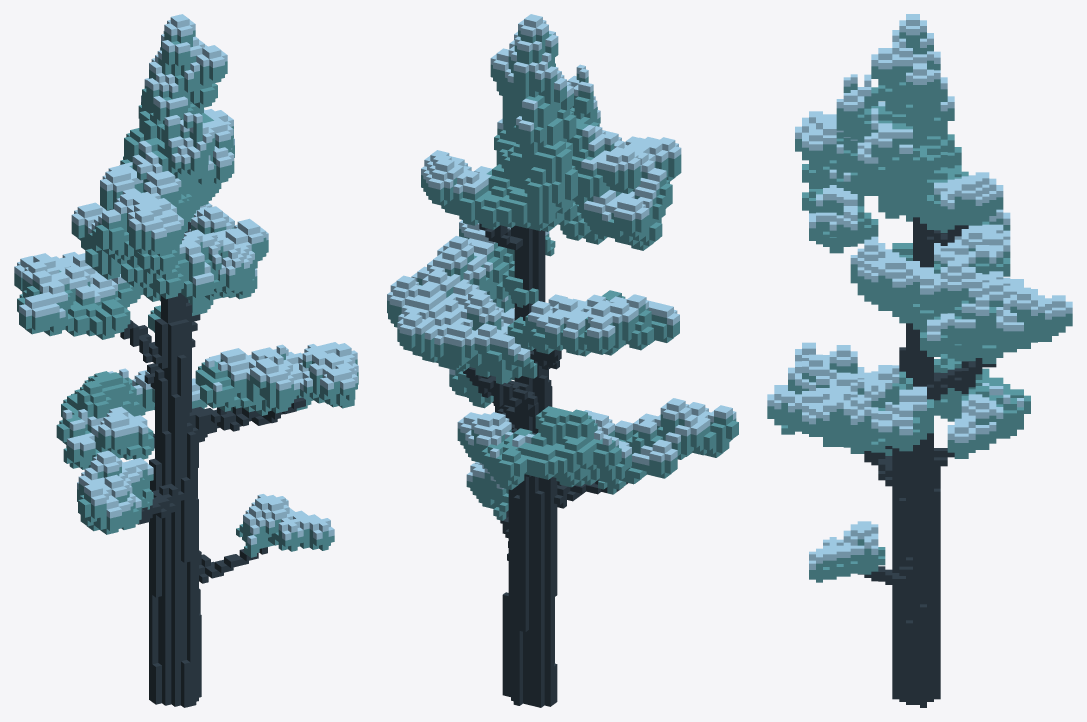
The model's file is Snow_Environment_Deco_Tile_03-2.obj.
The picture shows the model from 3 angles, left to right: view 1: azimuth 30°, elevation 25°; view 2: azimuth 150°, elevation 25°; view 3: azimuth 270°, elevation 25°; orthographic projection.
Parts seen in each view (by area): view 1: Snow_Environment_Deco_Tile_03-2; view 2: Snow_Environment_Deco_Tile_03-2; view 3: Snow_Environment_Deco_Tile_03-2.
Boxes of the visible parts, x1,y1,x2,y2 form: Snow_Environment_Deco_Tile_03-2: (14,14,358,707); Snow_Environment_Deco_Tile_03-2: (387,14,738,707); Snow_Environment_Deco_Tile_03-2: (767,14,1072,707).
Bounding box in the file's own units: 47 × 108 × 44.
1 material, 1 textured.
